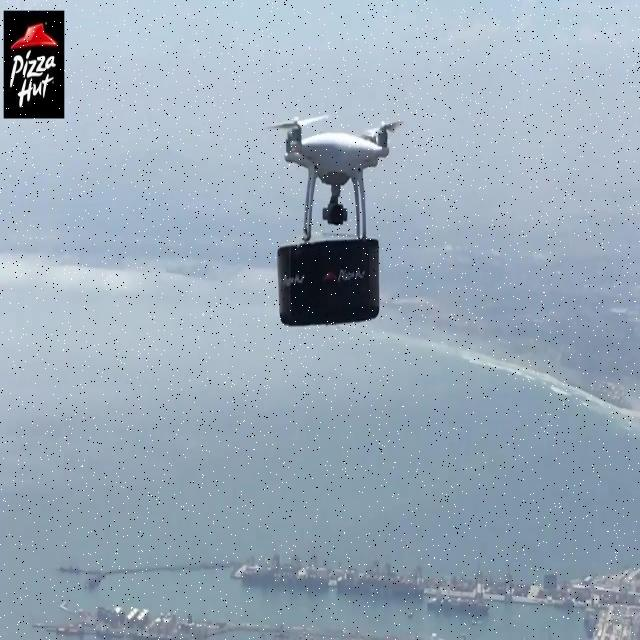UAV: (264, 115, 404, 242)
